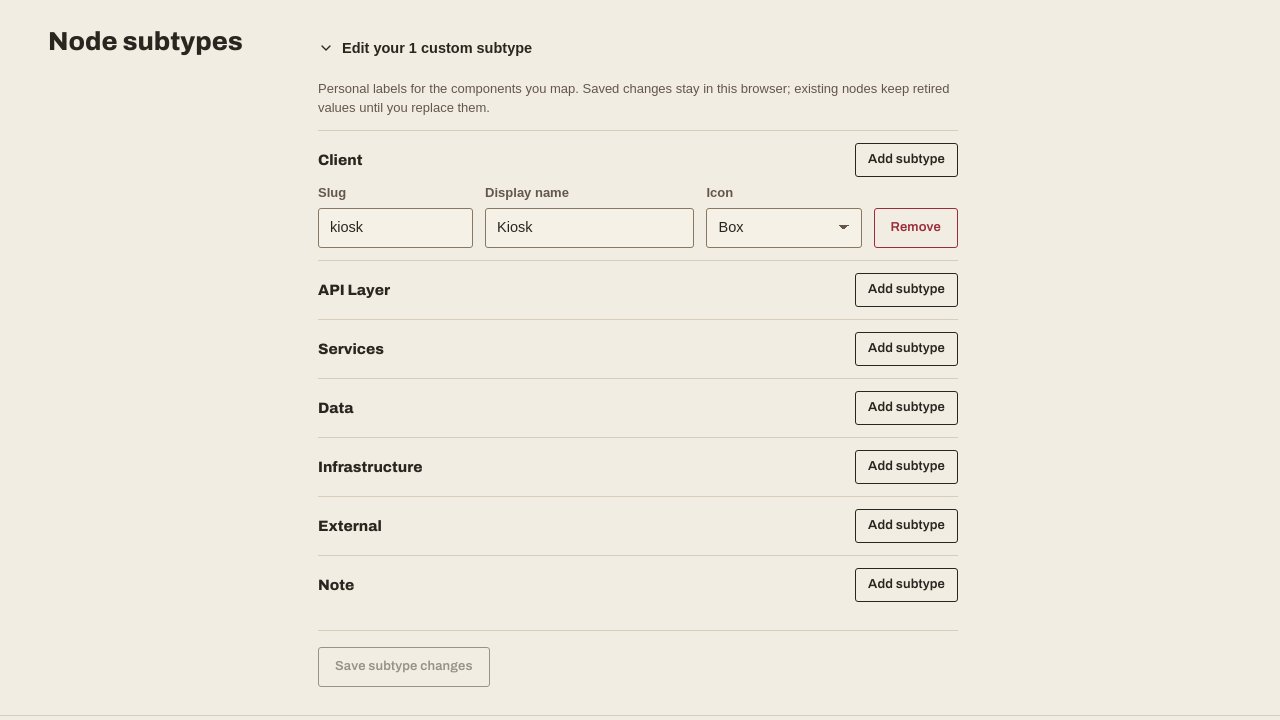
Scenario: CustomSubtypesSettings › rejects a non-authoritative saved catalog and restores the committed value
Replace the text in the field named "Client subtype 1 display name" with "Submitted locally": (590, 228) [485, 208, 694, 248]
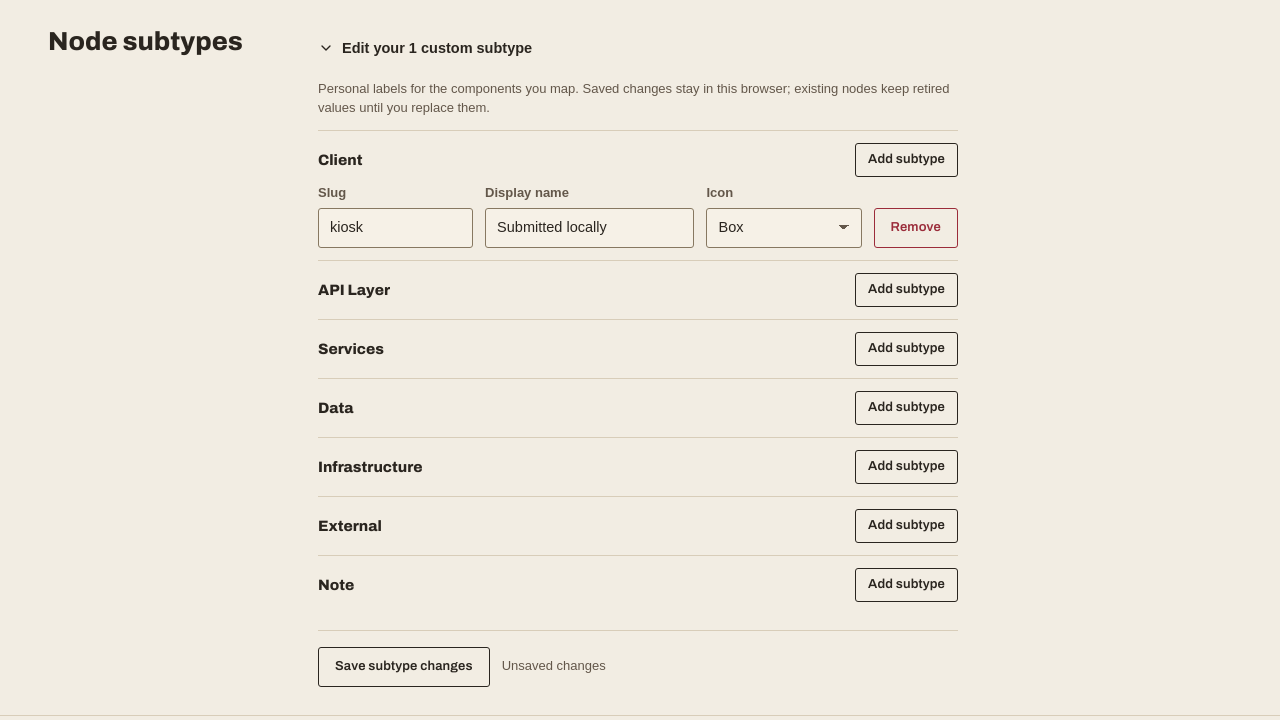
Click the button "Save subtype changes": (404, 667) [318, 647, 490, 687]
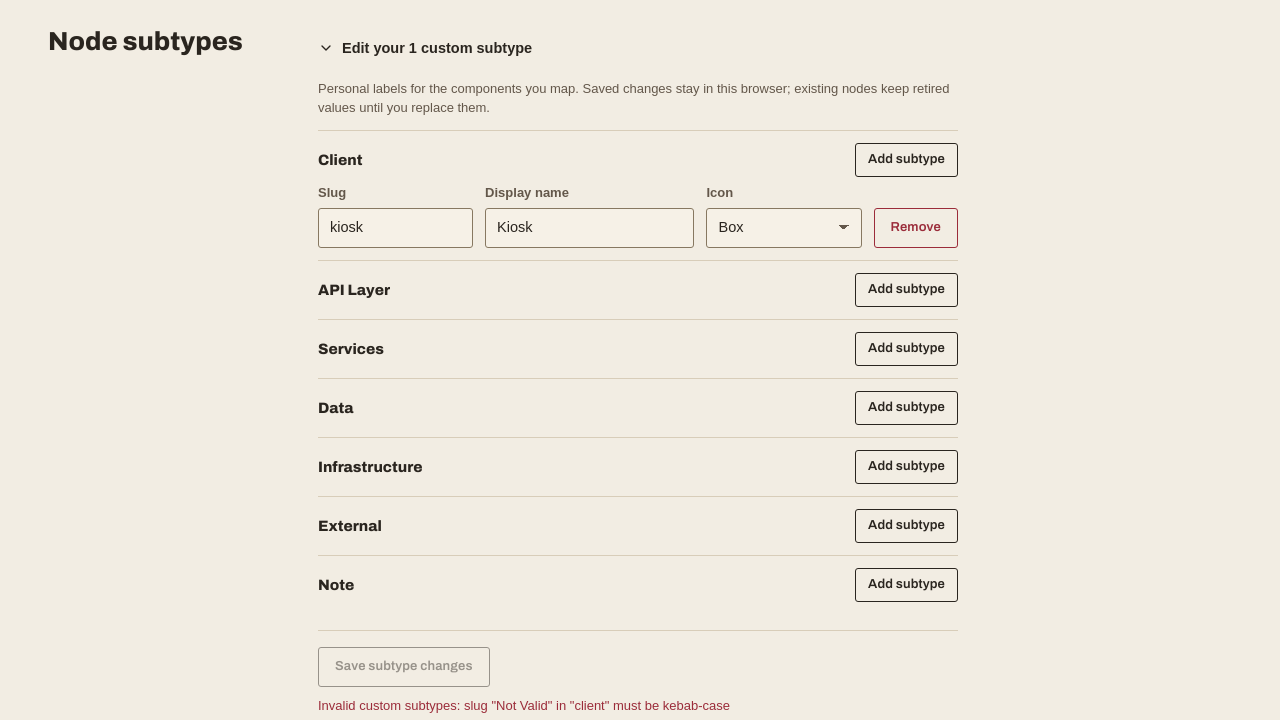
Expected: the message "Invalid custom subtypes: slug \"Not Valid\" in \"client\" must be kebab-case" is shown, [318, 698, 730, 713]
Expected: the field named "Client subtype 1 display name" holds "Kiosk", [485, 208, 694, 248]
